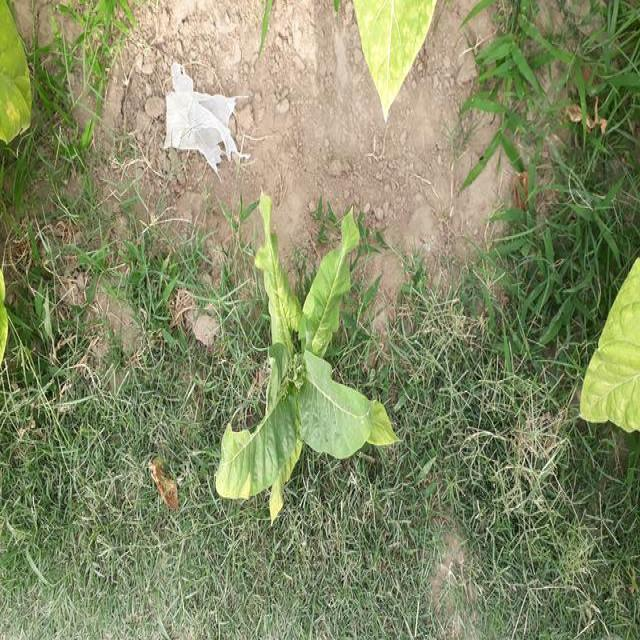crop: (220, 210, 400, 522), (354, 0, 442, 121), (587, 263, 640, 438)
